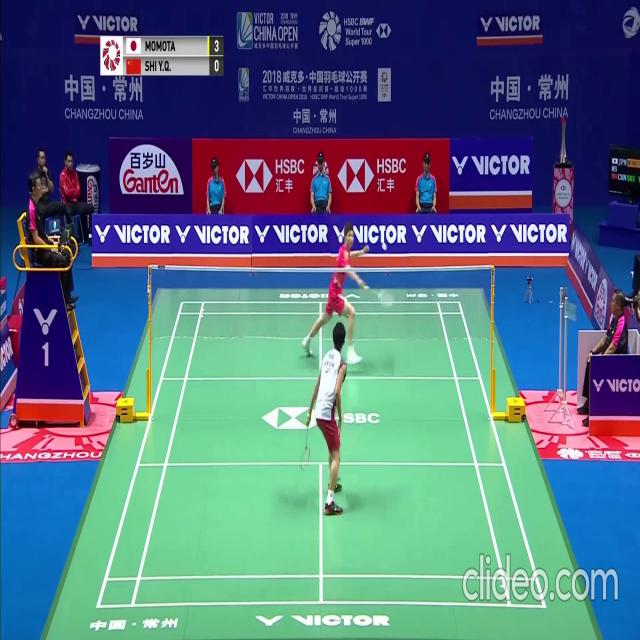Shuttlecock: (382, 242, 387, 250)
